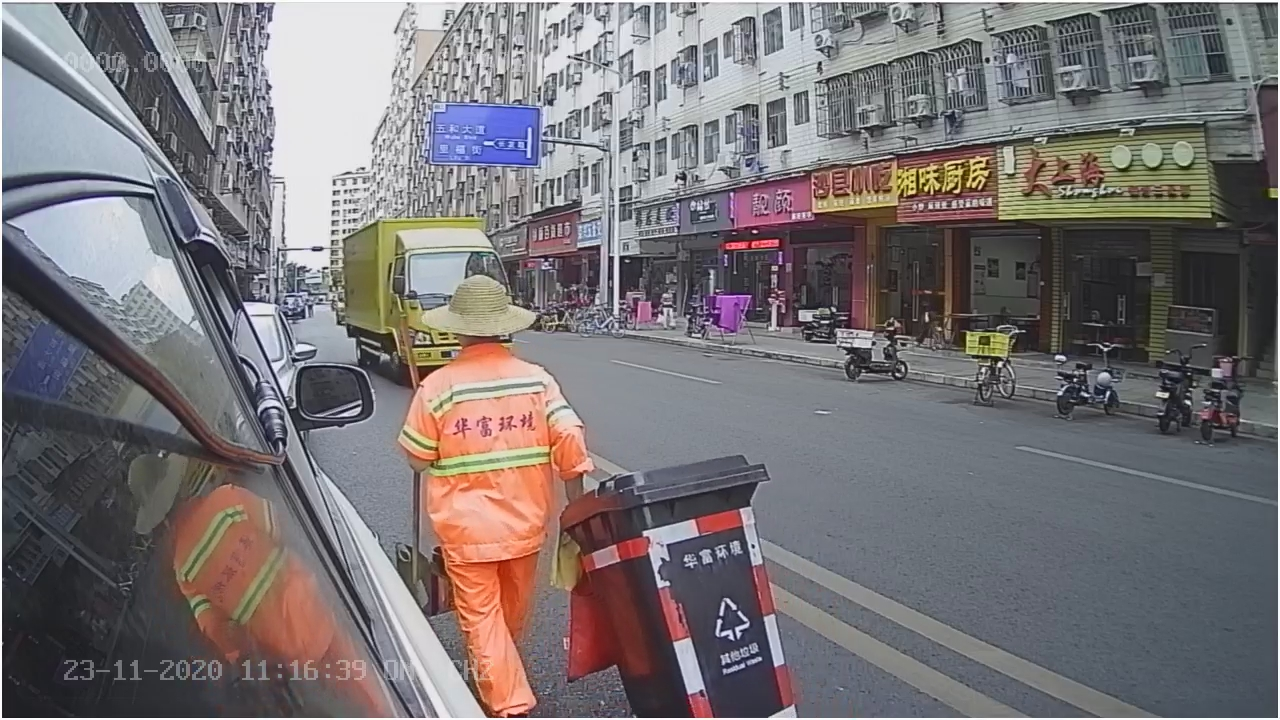person: (420, 271, 594, 489)
